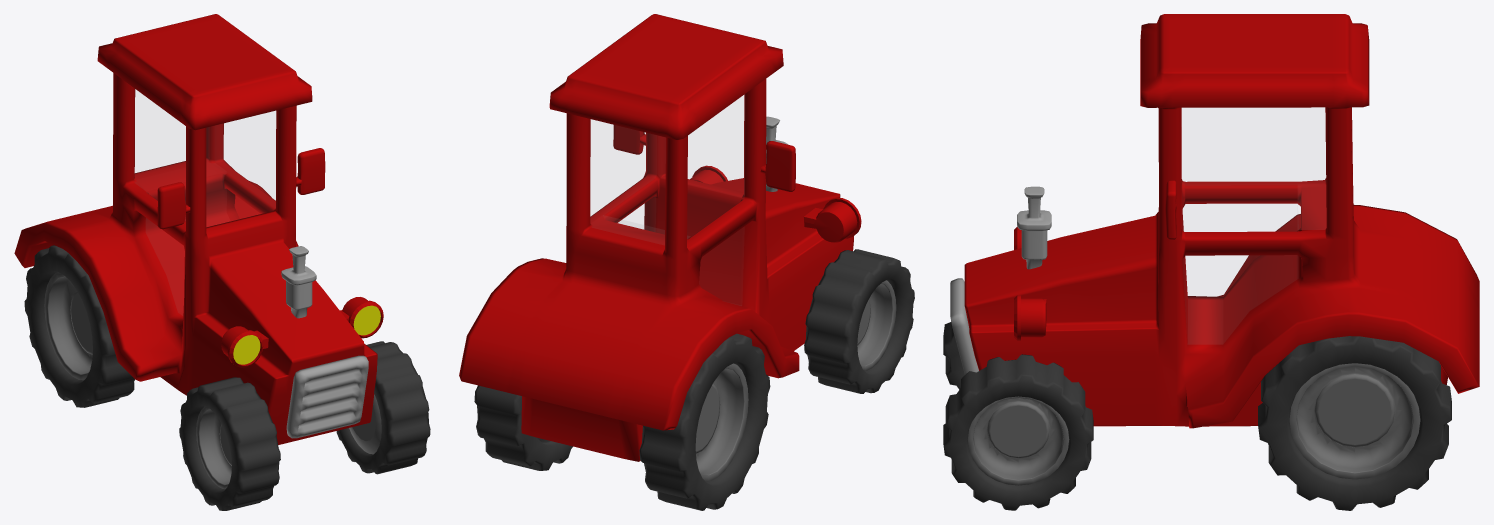
File: TractorModel 1.fbx
The picture shows the model from 3 angles, left to right: view 1: azimuth 30°, elevation 25°; view 2: azimuth 150°, elevation 25°; view 3: azimuth 270°, elevation 25°; orthographic projection. The views are drawn at different scales.
Parts seen in each view (by area): view 1: tractor_base, wheel_outer2, wheel_outer3, wheel_outer, grate, wheel__inner3, wheel__inner2, pump, mirror_2, mirror_1, wheel__inner, light_frame1 (+3 smaller); view 2: tractor_base, wheel_outer3, wheel_outer2, wheel__inner3, wheel_outer1, wheel__inner2, light_frame1, mirror_2, mirror_1; view 3: tractor_base, wheel_outer1, wheel__inner1, wheel_outer, wheel__inner, pump, grate, light_frame, wheel_outer2, mirror_1.
Part boxes in pixels (left/top/right/bottom): tractor_base: left=14, top=14, right=377, bottom=444; wheel_outer2: left=179, top=377, right=280, bottom=510; wheel_outer3: left=24, top=245, right=134, bottom=407; wheel_outer: left=336, top=341, right=430, bottom=474; grate: left=286, top=355, right=368, bottom=438; wheel__inner3: left=44, top=272, right=92, bottom=380; wheel__inner2: left=196, top=406, right=231, bottom=489; pump: left=281, top=246, right=316, bottom=318; mirror_2: left=157, top=182, right=190, bottom=229; mirror_1: left=296, top=148, right=325, bottom=194; wheel__inner: left=349, top=394, right=381, bottom=454; light_frame1: left=221, top=326, right=268, bottom=367; tractor_base: left=459, top=14, right=853, bottom=461; wheel_outer3: left=639, top=333, right=770, bottom=510; wheel_outer2: left=804, top=249, right=914, bottom=393; wheel__inner3: left=695, top=363, right=748, bottom=481; wheel_outer1: left=474, top=385, right=572, bottom=470; wheel__inner2: left=857, top=280, right=896, bottom=370; light_frame1: left=804, top=197, right=861, bottom=242; mirror_2: left=760, top=141, right=795, bottom=191; mirror_1: left=613, top=125, right=645, bottom=154; tractor_base: left=964, top=14, right=1479, bottom=428; wheel_outer1: left=1258, top=336, right=1451, bottom=510; wheel__inner1: left=1289, top=363, right=1420, bottom=479; wheel_outer: left=943, top=354, right=1093, bottom=510; wheel__inner: left=968, top=396, right=1069, bottom=485; pump: left=1017, top=186, right=1051, bottom=269; grate: left=950, top=278, right=978, bottom=374; light_frame: left=1014, top=295, right=1046, bottom=340; wheel_outer2: left=943, top=321, right=964, bottom=389; mirror_1: left=1165, top=180, right=1176, bottom=239.
Bounding box in the file's own units: 212 × 367 × 428.
